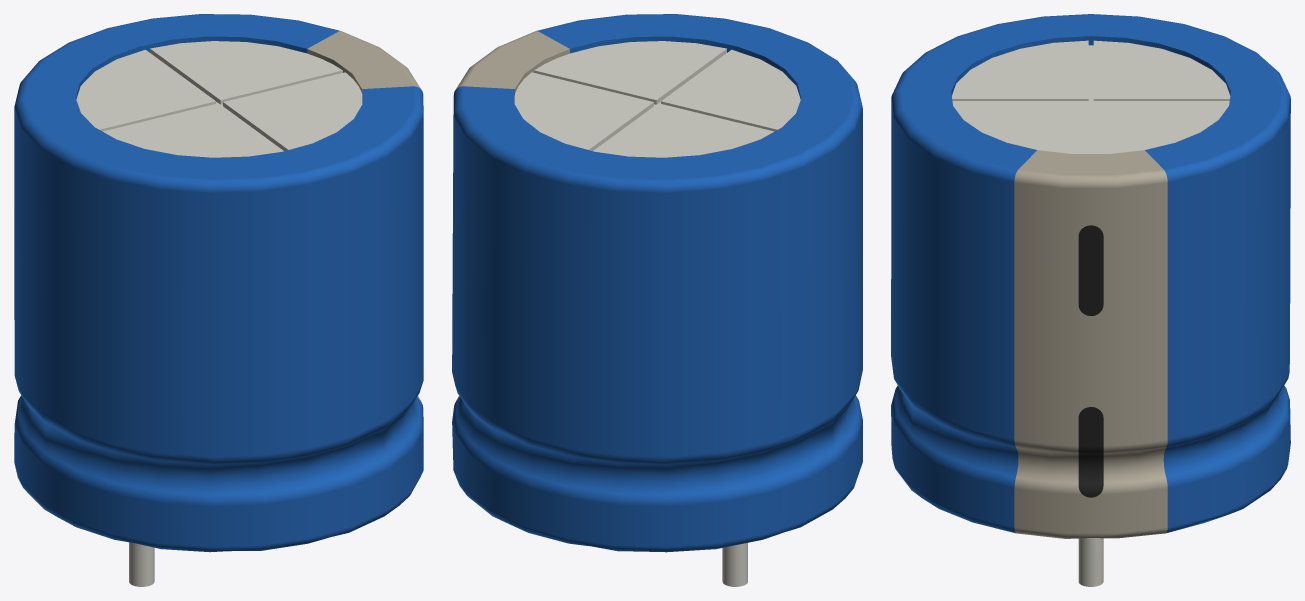
Rendered from CP_Radial_D8.0mm_P3.50mm.glb.
3 views of the same model, side by side, from view 1: azimuth 30°, elevation 25°; view 2: azimuth 150°, elevation 25°; view 3: azimuth 270°, elevation 25° (orthographic). The views are drawn at different scales.
Parts seen in each view (by area): view 1: =>[0:1:1:3]; view 2: =>[0:1:1:3]; view 3: =>[0:1:1:3].
Boxes of the visible parts, x1,y1,x2,y2 form: =>[0:1:1:3]: [14, 14, 423, 586]; =>[0:1:1:3]: [452, 14, 862, 586]; =>[0:1:1:3]: [891, 14, 1290, 586].
Bounding box in the file's own units: 0.008 × 0.01 × 0.00798.
